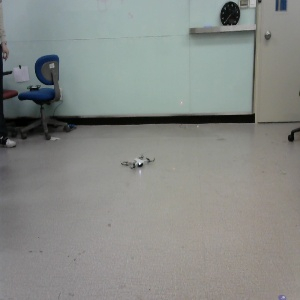Drone: (121, 154, 153, 174)
